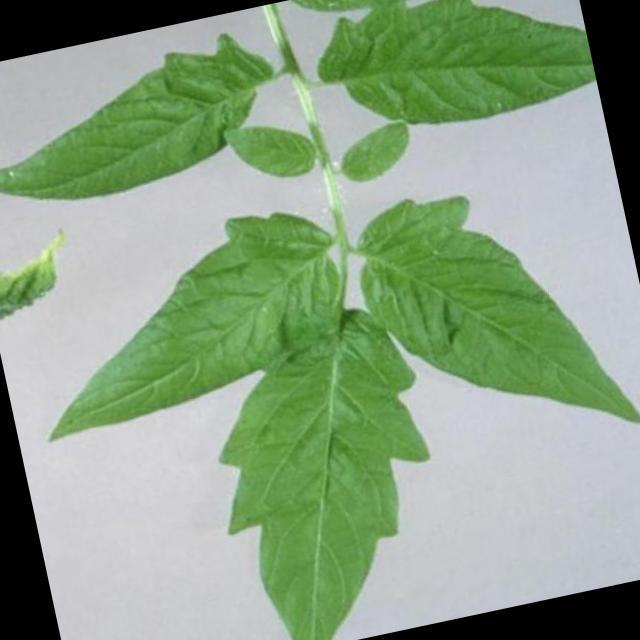Healthy Leaf: (349, 172, 639, 485), (14, 203, 367, 444), (192, 349, 475, 639), (0, 32, 308, 235), (302, 0, 589, 161)
